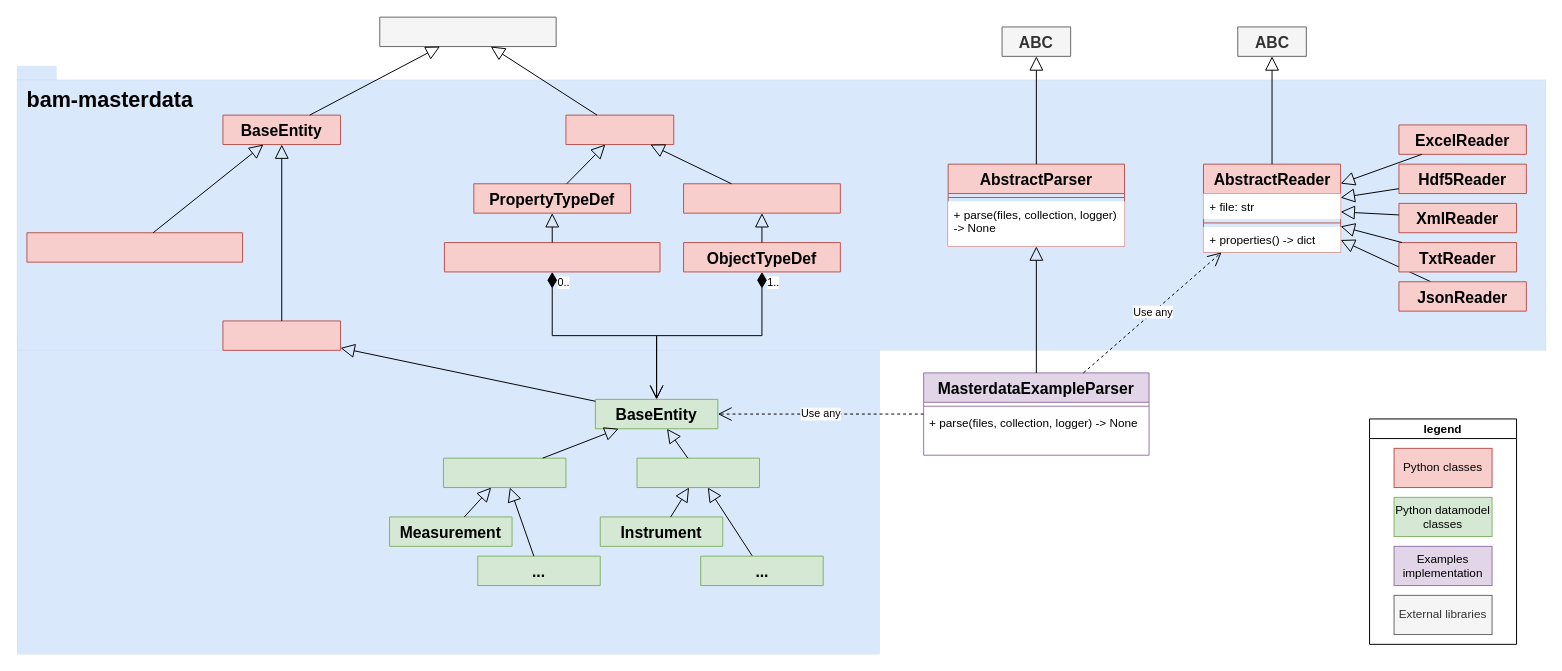
This 1562x671 diagram has some shape labels left out. The centre of each missing label's shape, as x and y in pixels:
"Activity" belongs at [504,472].
"BaseObjectTypeDef" belongs at [761,198].
"CollectionType" belongs at [134,247].
"Entity" belongs at [698,472].
"EntityDef" belongs at [619,129].
"ObjectType" belongs at [281,335].
"PropertyTypeAssignment" belongs at [551,257].
"pydantic.BaseModel" belongs at [467,31].
